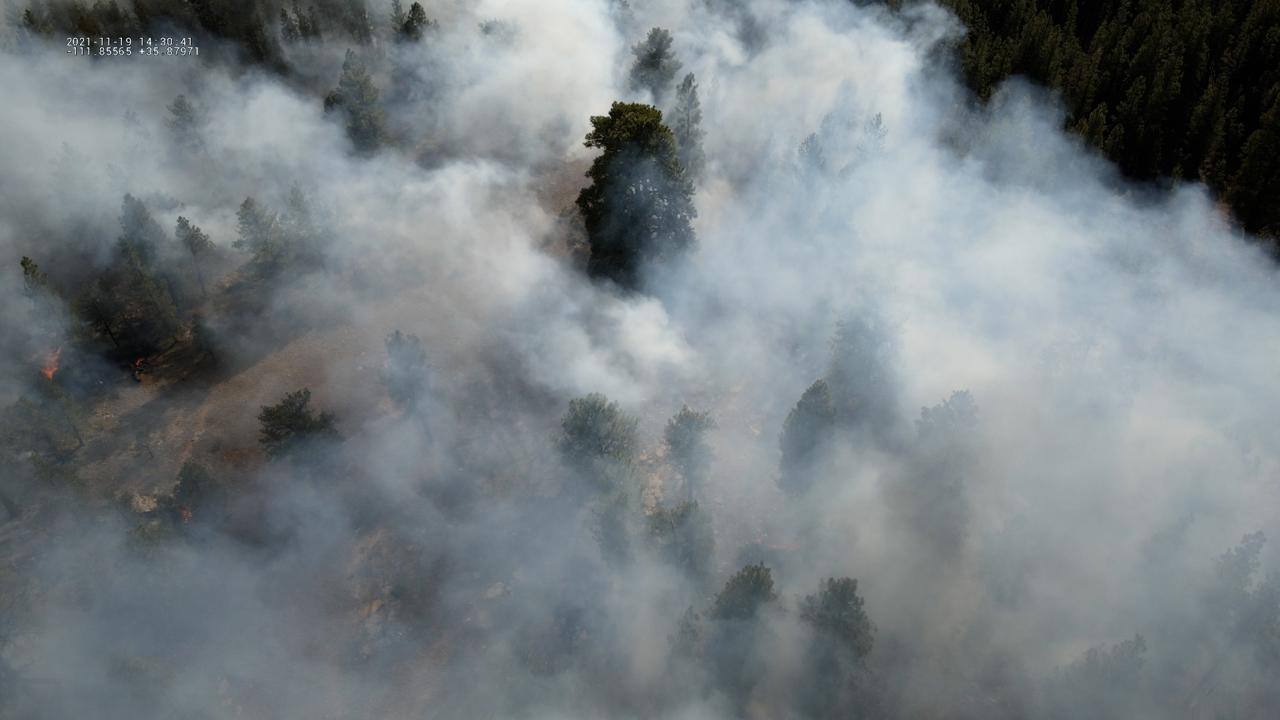fire: (36, 345, 62, 381), (181, 508, 194, 525), (134, 356, 147, 367)
smoke: (0, 0, 1280, 720)
